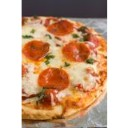pepperonipizza: (22, 16, 107, 121)
